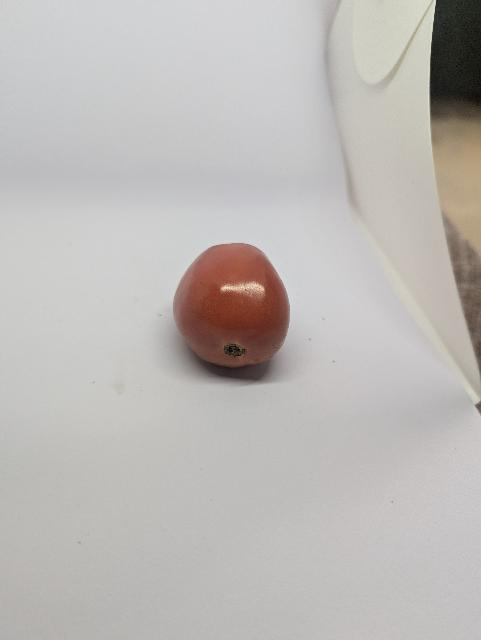red: (163, 224, 309, 390)
